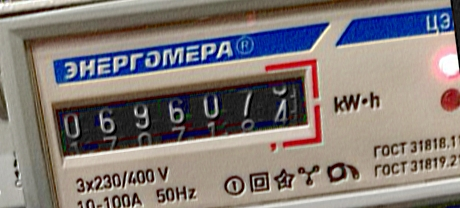0: (60, 108, 84, 140), (200, 89, 223, 120)
4: (269, 95, 291, 126)
6: (165, 93, 188, 127), (95, 103, 118, 135)
7: (235, 83, 257, 117)
9: (130, 99, 154, 130)
screen: (38, 51, 331, 178)
